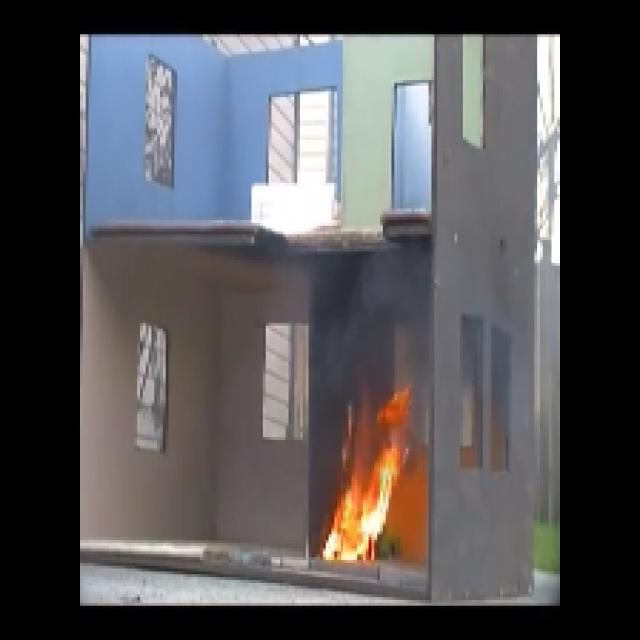fire: (334, 437, 396, 560), (317, 256, 398, 333)
